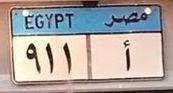1: (45, 41, 57, 77), (62, 42, 75, 73)
9: (25, 40, 43, 75)
alif: (119, 40, 133, 73)
